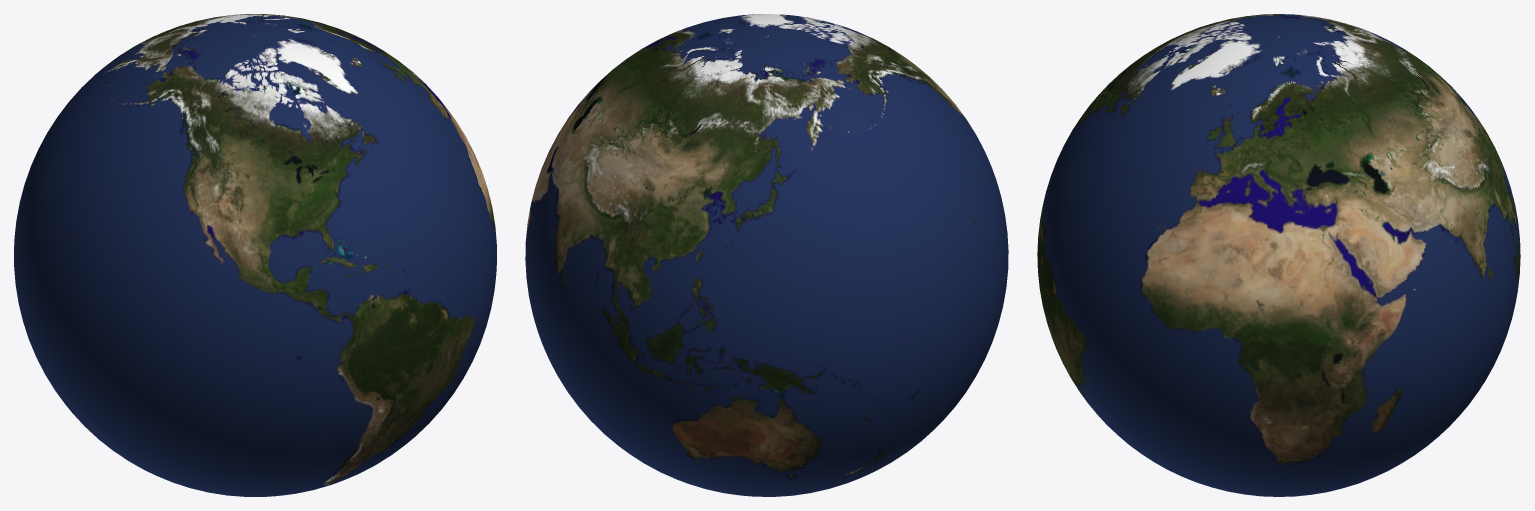
3 renders of one model, left to right at view 1: azimuth 30°, elevation 25°; view 2: azimuth 150°, elevation 25°; view 3: azimuth 270°, elevation 25°, orthographic.
Parts seen in each view (by area): view 1: Tierra.009; view 2: Tierra.009; view 3: Tierra.009.
Part boxes in pixels (x1,y1,x2,y2): Tierra.009: [14, 14, 496, 496]; Tierra.009: [525, 14, 1008, 496]; Tierra.009: [1037, 14, 1520, 496].
Bounding box in the file's own units: 18 × 18 × 18.
Materials: 1 (1 with a texture image).
